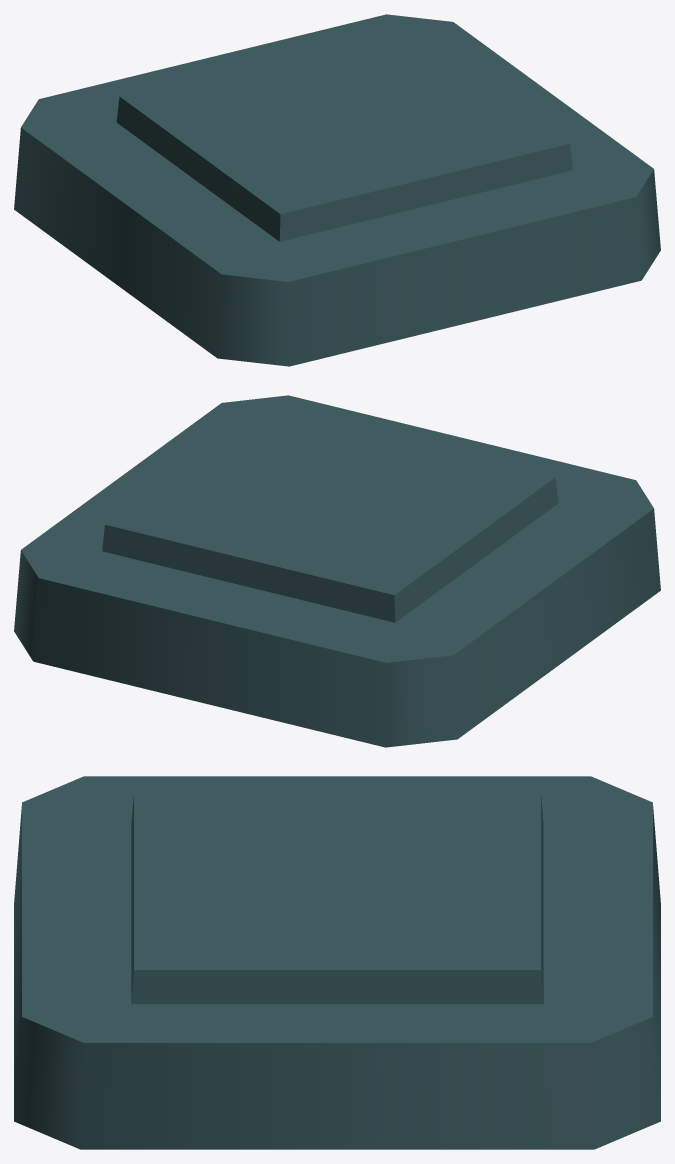
The model's file is Vent_2_D_1.fbx.
3 renders of one model, top to bottom at view 1: azimuth 30°, elevation 25°; view 2: azimuth 150°, elevation 25°; view 3: azimuth 270°, elevation 25°, orthographic. The views are drawn at different scales.
Parts seen in each view (by area): view 1: Vent_2_D_1; view 2: Vent_2_D_1; view 3: Vent_2_D_1.
Boxes of the visible parts, <box> form: Vent_2_D_1: <box>14,14,660,366</box>; Vent_2_D_1: <box>14,395,660,747</box>; Vent_2_D_1: <box>14,776,660,1149</box>.
Size of the model in its own units: 56.66 by 13.19 by 56.66.
